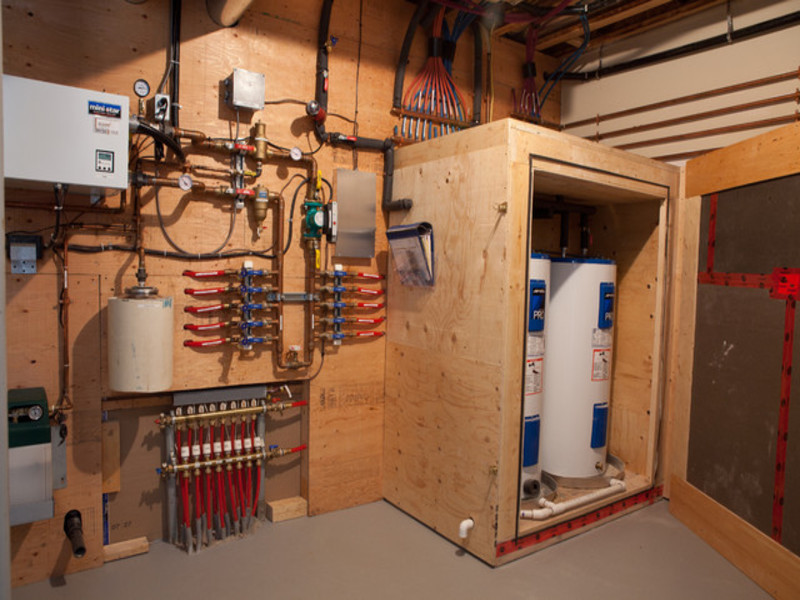valve: (311, 162, 337, 218), (327, 122, 363, 152), (315, 59, 336, 101), (306, 235, 326, 278), (235, 162, 260, 181), (232, 139, 263, 154), (232, 185, 258, 202)
